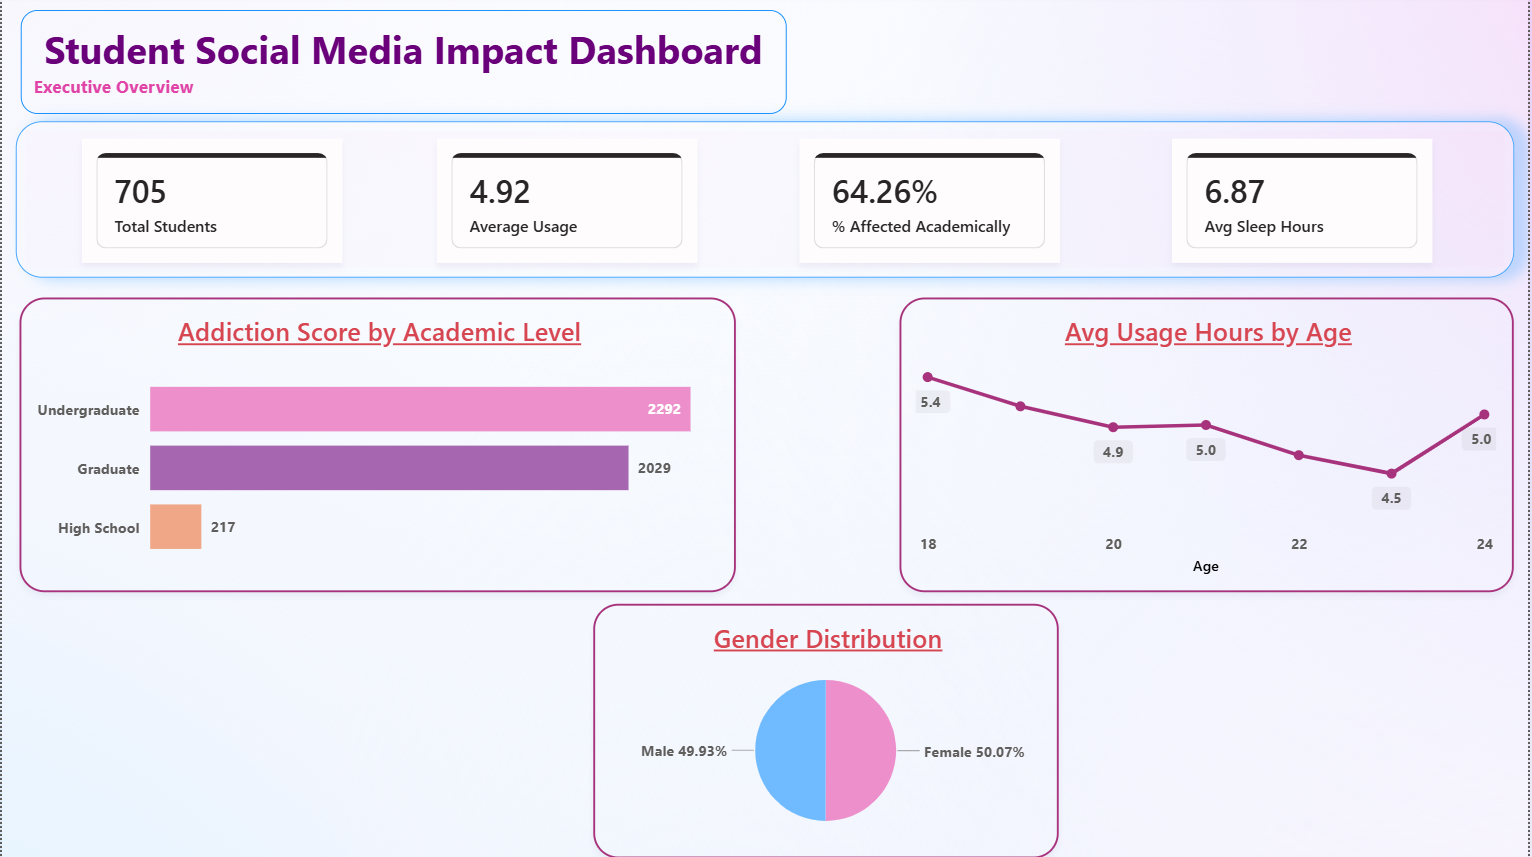

What the dashboard file says about the page in this screenshot:
{"tool":"powerbi","page":{"name":"Executive Overview","canvas":[1280,720],"ordinal":0},"visuals":[{"type":"cardVisual","fields":{"Data":["CountNonNull(Student Details.Student_ID)"]},"box":[67.1,116.4,218.7,104.3],"z":0},{"type":"cardVisual","fields":{"Data":["Student Details.Avg Usage Hours"]},"box":[364.6,116.4,218.7,104.3],"z":1000},{"type":"cardVisual","fields":{"Data":["Student Details.Percentage Affected Academically"]},"box":[668.5,116.4,218.7,104.3],"z":2000},{"type":"cardVisual","fields":{"Data":["Student Details.Avg Sleep Hours"]},"box":[981.2,116.4,218.7,104.3],"z":3000},{"type":"barChart","title":"Addiction Score by Academic Level","fields":{"Y":["Sum(Student Details.Addicted_Score)"],"Category":["Student Details.Academic_Level"]},"box":[14.7,249.5,600.7,247.3],"z":4000},{"type":"lineChart","fields":{"Category":["Student Details.Age"],"Y":["Student Details.Avg Usage Hours"]},"box":[753.1,249.5,514.9,247.3],"z":5000},{"type":"pieChart","title":"Gender Distribution","fields":{"Category":["Student Details.Gender"],"Y":["CountNonNull(Student Details.Gender)"]},"box":[495.7,505.9,390.7,213.4],"z":6000},{"type":"shape","box":[11.3,101.6,1256.7,131],"z":7000},{"type":"textbox","box":[15.8,7.9,642.2,87.1],"z":8000}]}

Visuals, with their boxes in screenshot pixels (x1, y1, x2, y2), scaled from the page's 1280x720 canvas onto the 1532x857 screenshot:
cardVisual - CountNonNull(Student Details.Student_ID): [left=80, top=139, right=342, bottom=263]
cardVisual - Student Details.Avg Usage Hours: [left=436, top=139, right=698, bottom=263]
cardVisual - Student Details.Percentage Affected Academically: [left=800, top=139, right=1062, bottom=263]
cardVisual - Student Details.Avg Sleep Hours: [left=1174, top=139, right=1436, bottom=263]
"Addiction Score by Academic Level" barChart: [left=18, top=297, right=737, bottom=591]
lineChart - Student Details.Age x Student Details.Avg Usage Hours: [left=901, top=297, right=1518, bottom=591]
"Gender Distribution" pieChart: [left=593, top=602, right=1061, bottom=856]
shape: [left=14, top=121, right=1518, bottom=277]
textbox: [left=19, top=9, right=788, bottom=113]
